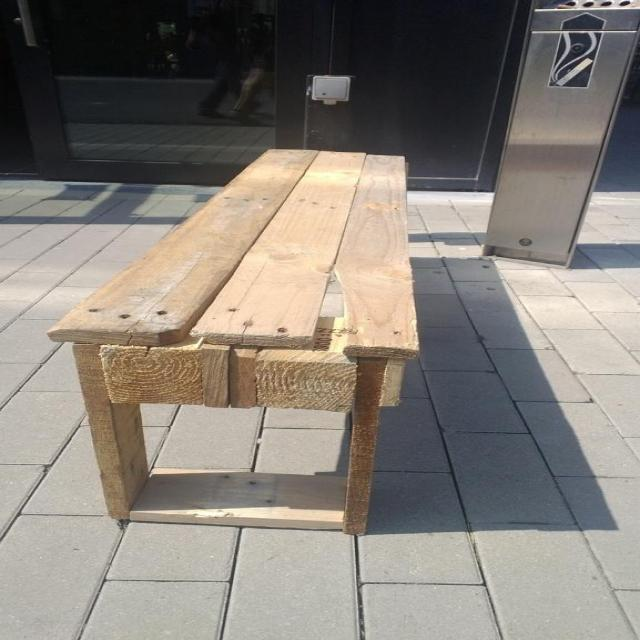Table: (49, 150, 408, 538)
